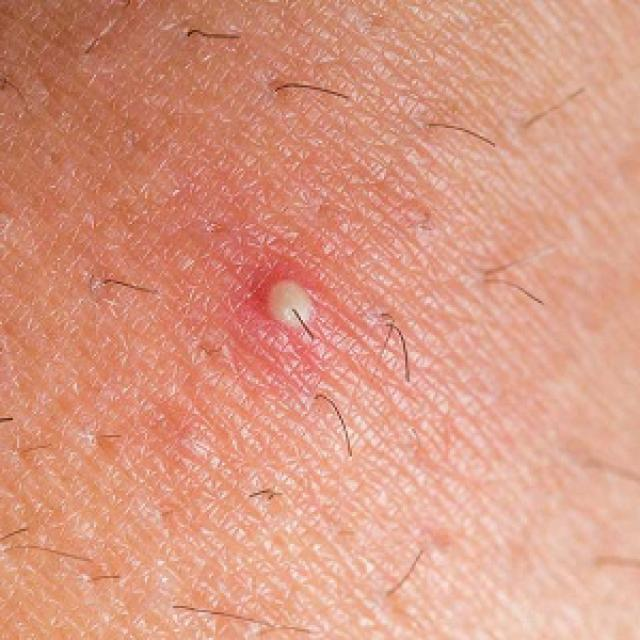pustule: (225, 253, 365, 398)
